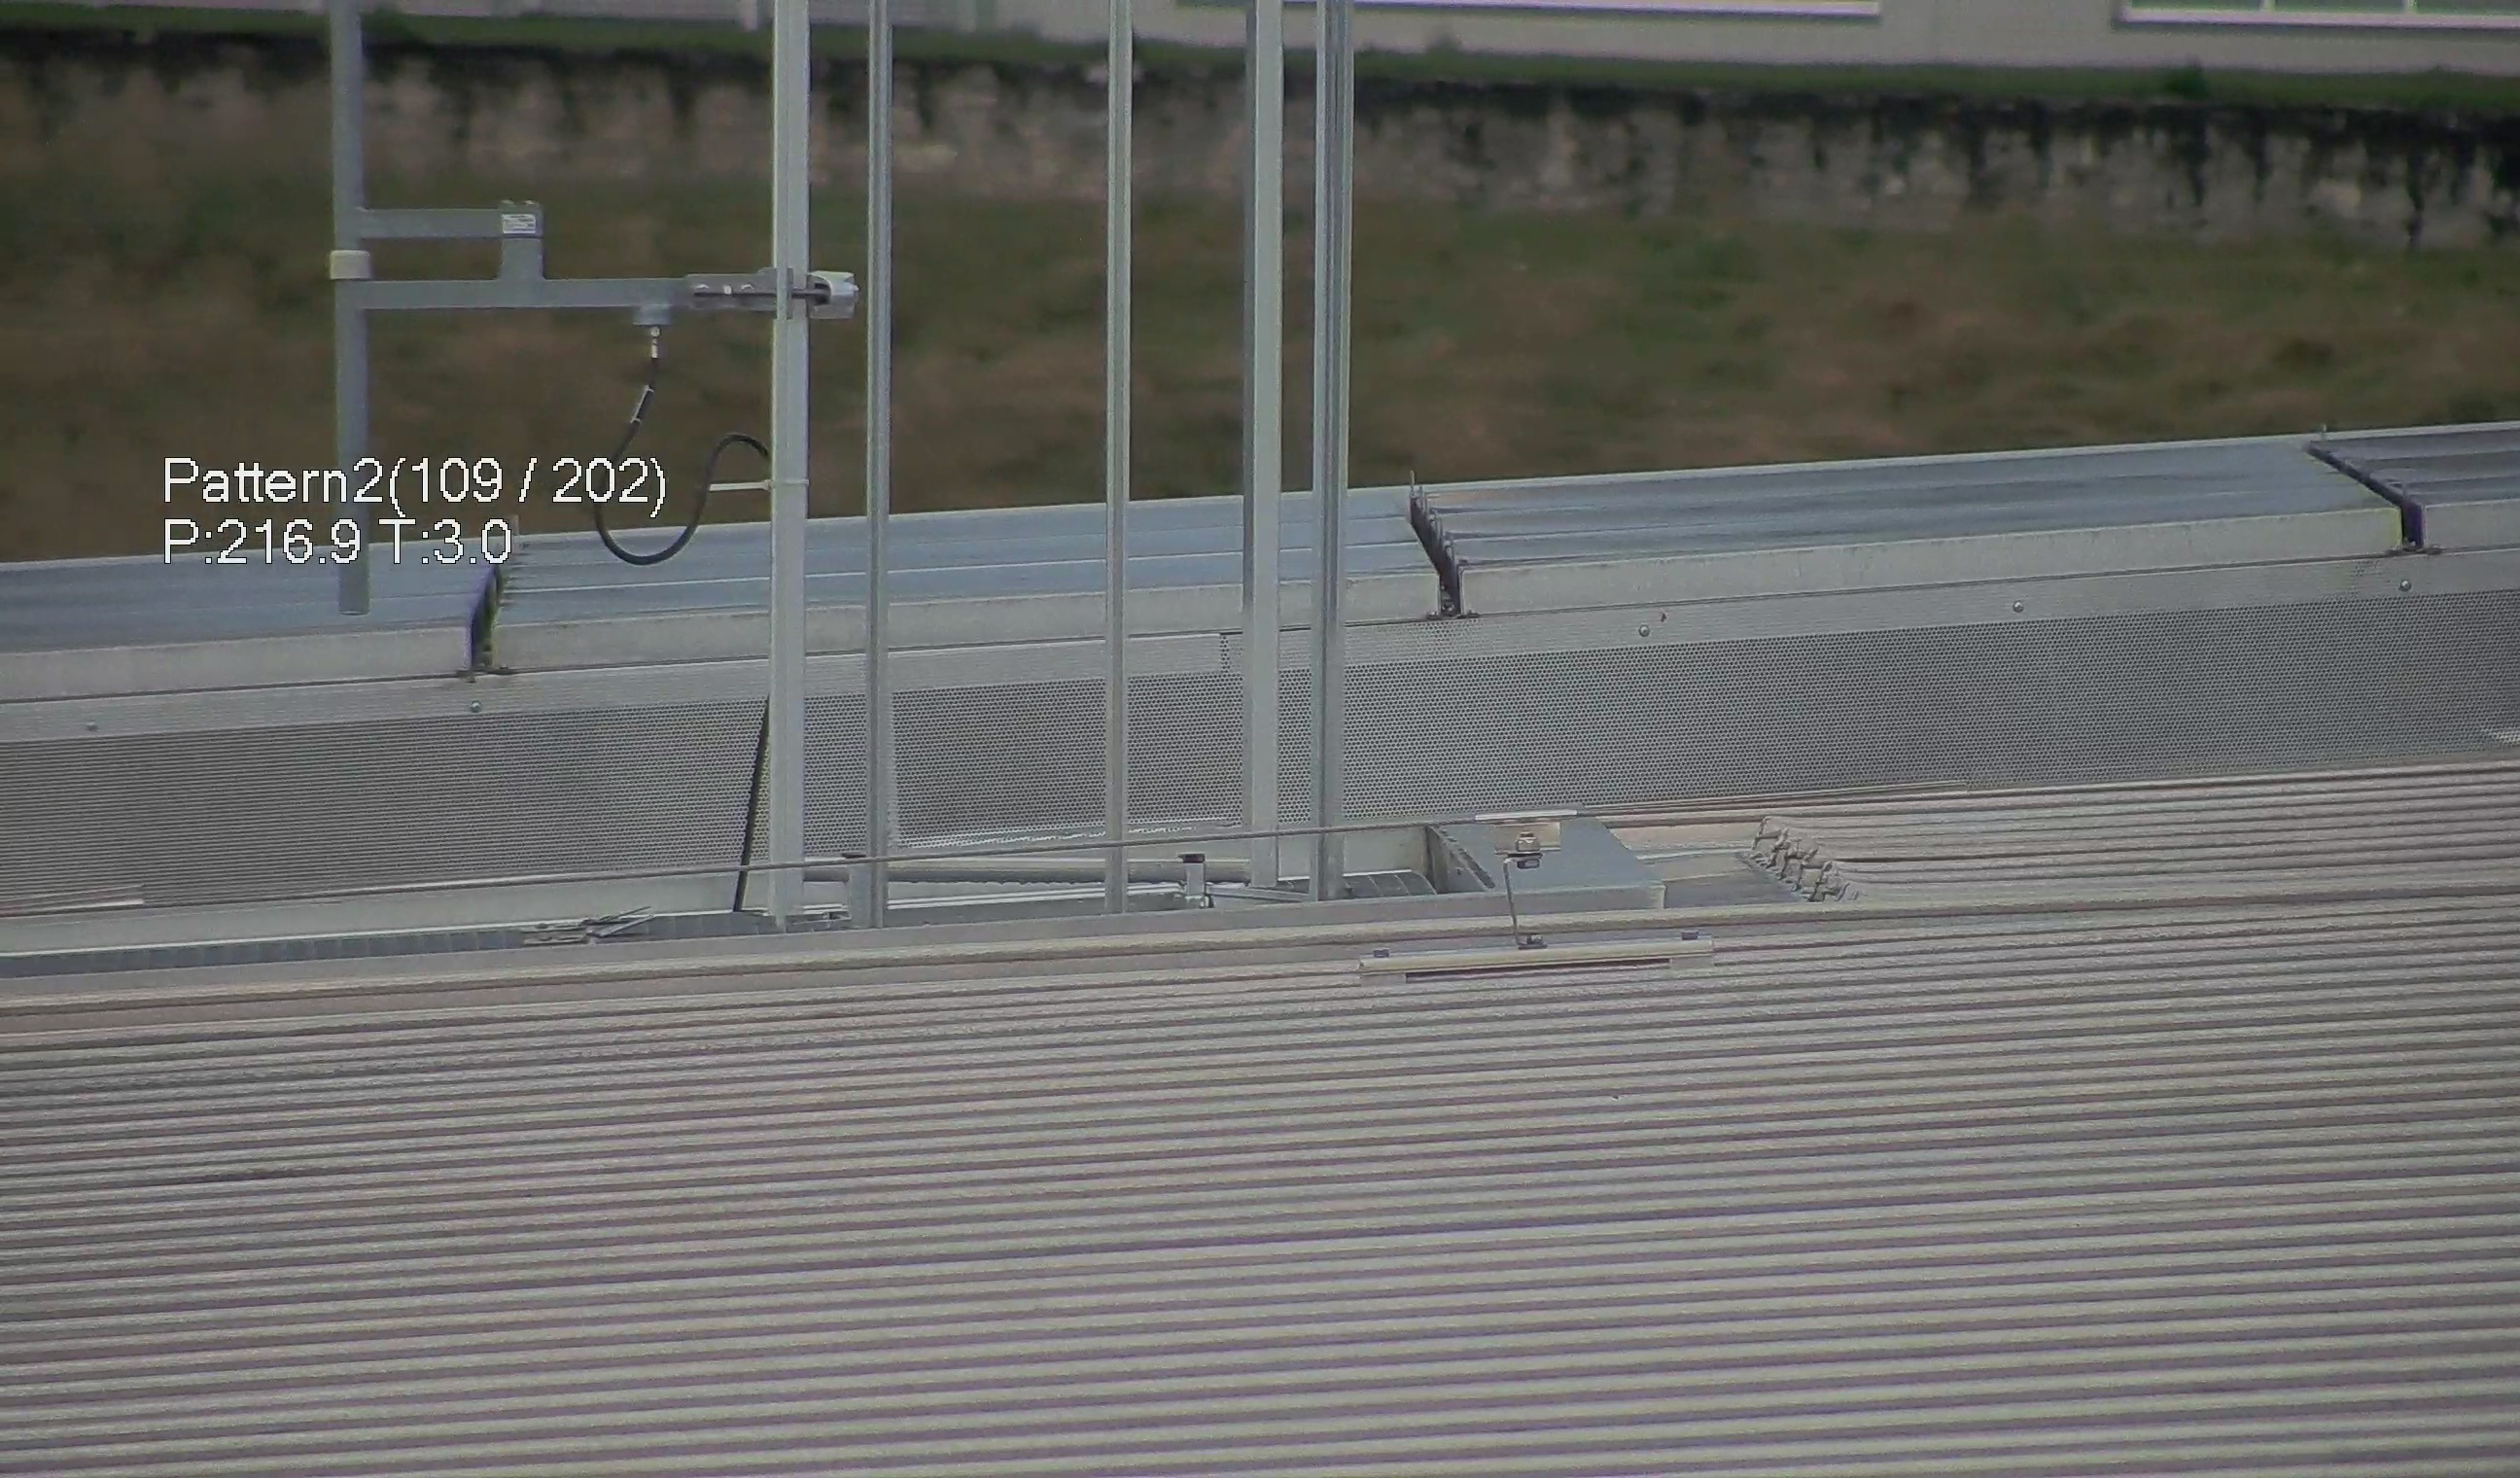Other: (1386, 475, 1489, 623)
